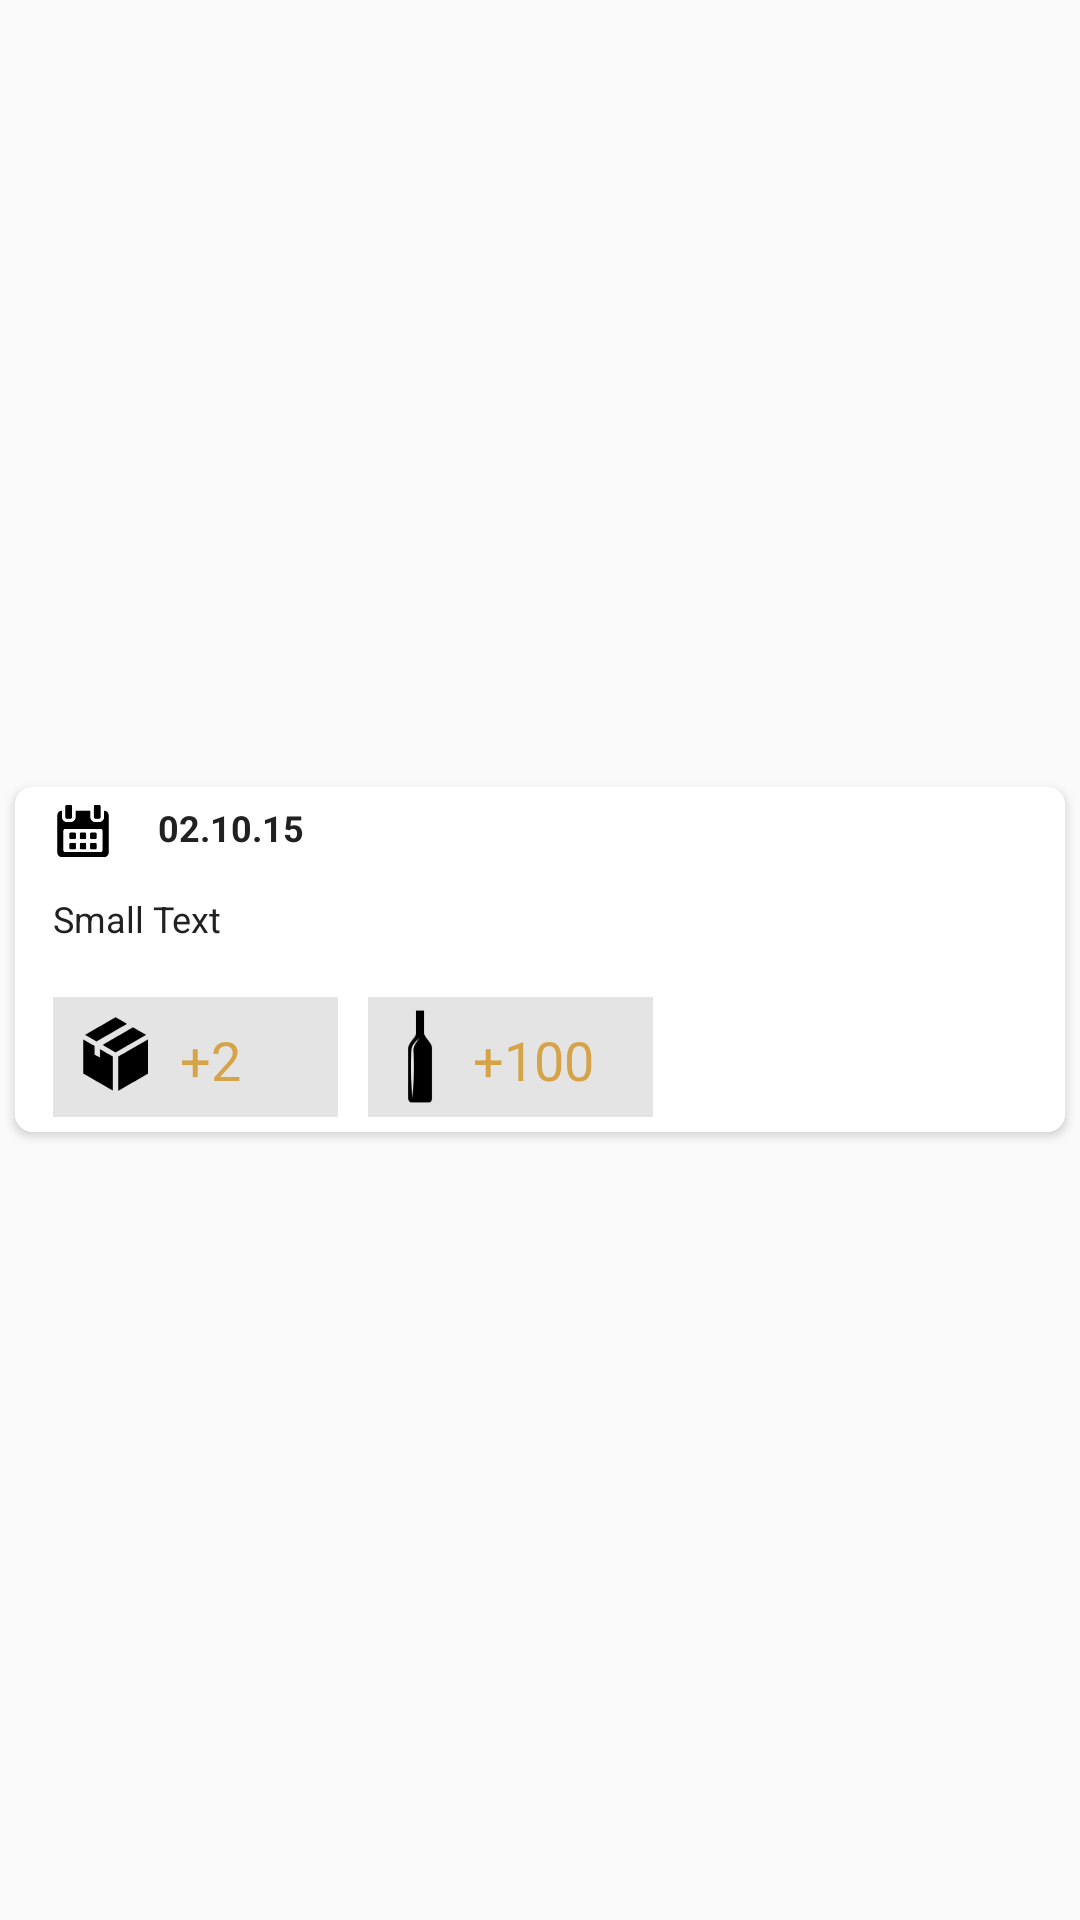

Screen size 1080x1920. Icon name, then its center in pixels as (x,y):
box: (115,1054)
calendar: (83,831)
